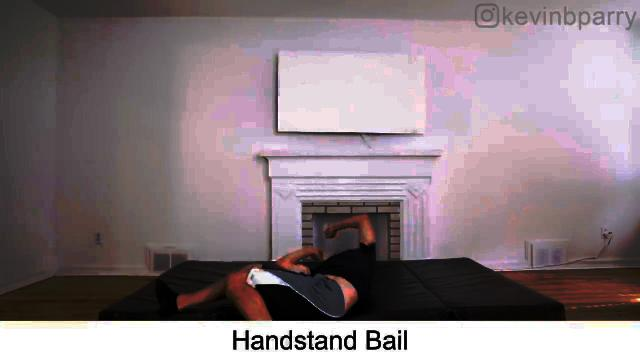jatuh: (144, 194, 386, 324)
